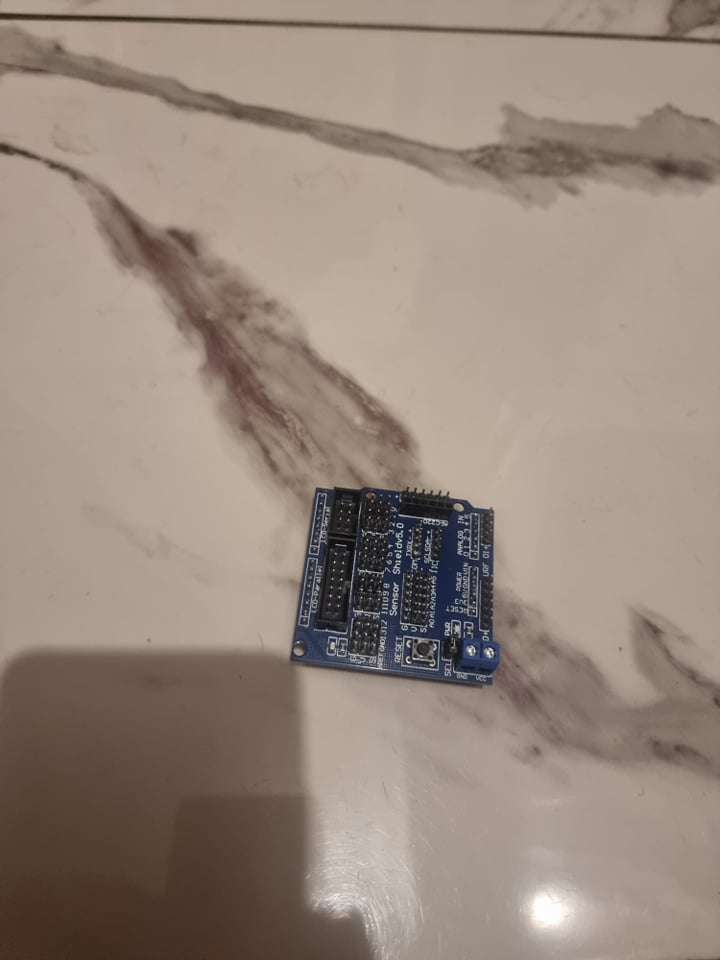5V EXPANSION: (290, 488, 499, 694)
